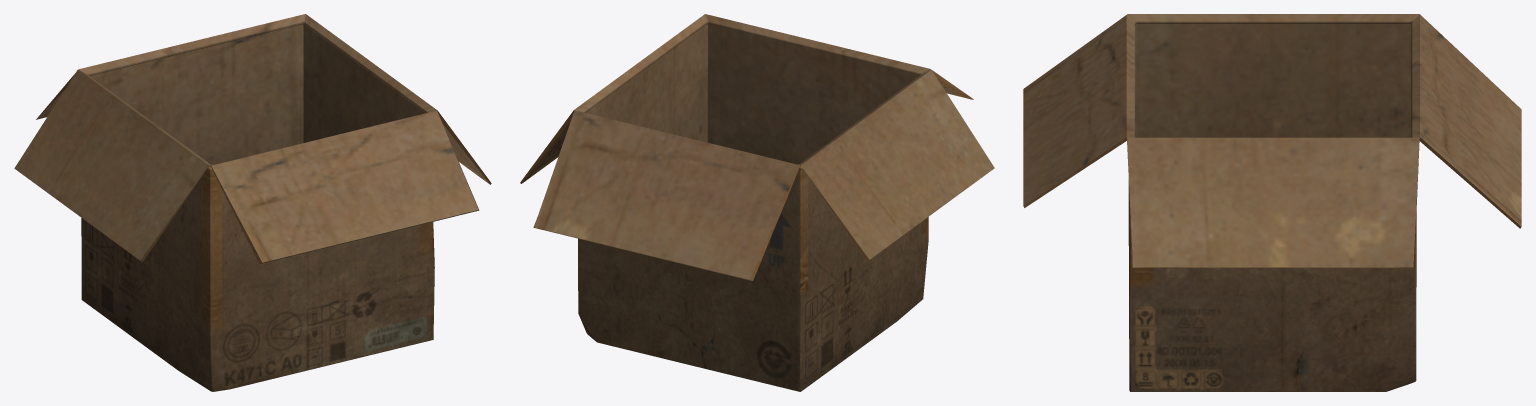
The model's file is CardboardBox_VarA.fbx.
The picture shows the model from 3 angles, left to right: view 1: azimuth 30°, elevation 25°; view 2: azimuth 150°, elevation 25°; view 3: azimuth 270°, elevation 25°; orthographic projection. The views are drawn at different scales.
Parts seen in each view (by area): view 1: CardboardBox_VarA_LOD0; view 2: CardboardBox_VarA_LOD0; view 3: CardboardBox_VarA_LOD0.
Boxes of the visible parts, x1,y1,x2,y2 form: CardboardBox_VarA_LOD0: (14,14,491,391); CardboardBox_VarA_LOD0: (520,14,994,391); CardboardBox_VarA_LOD0: (1023,14,1521,391).
Size of what is drawn, in the model's own units: 105 by 65.95 by 116.
